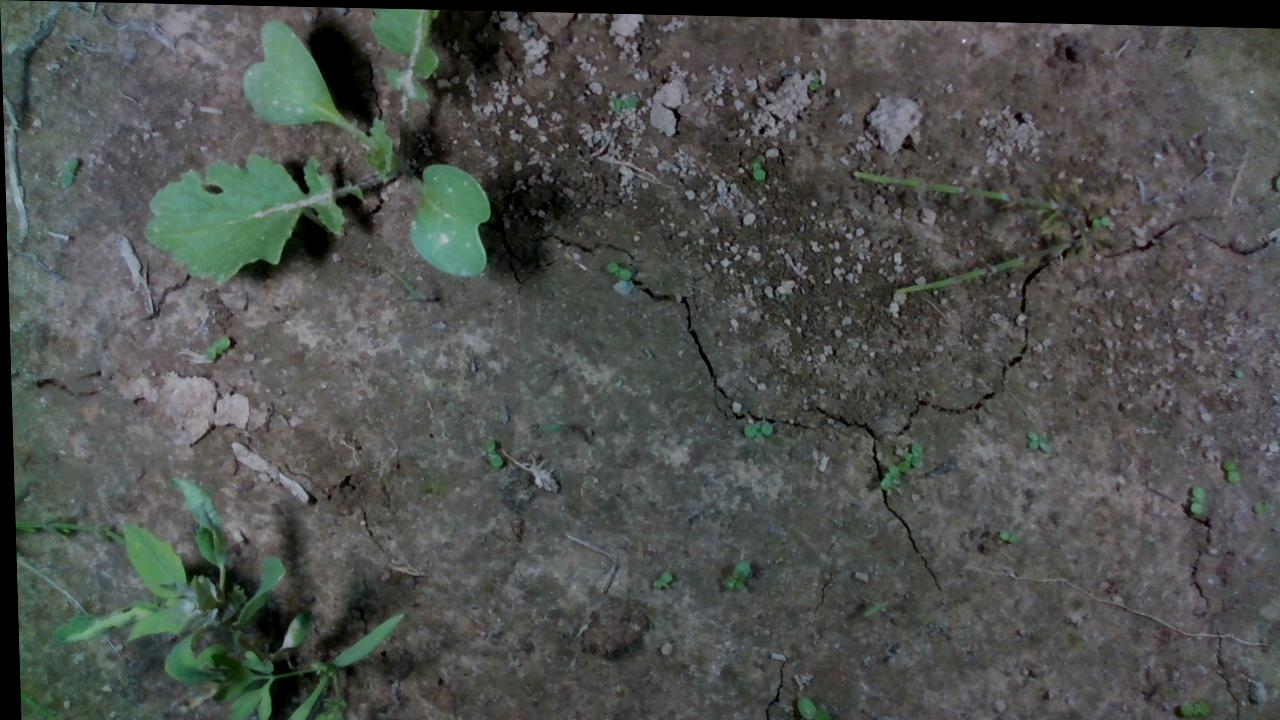weed: (1016, 420, 1058, 461), (476, 435, 512, 469), (735, 410, 775, 436), (602, 256, 638, 282), (1179, 474, 1204, 511), (1215, 452, 1242, 486), (746, 150, 768, 181), (647, 571, 670, 593)
